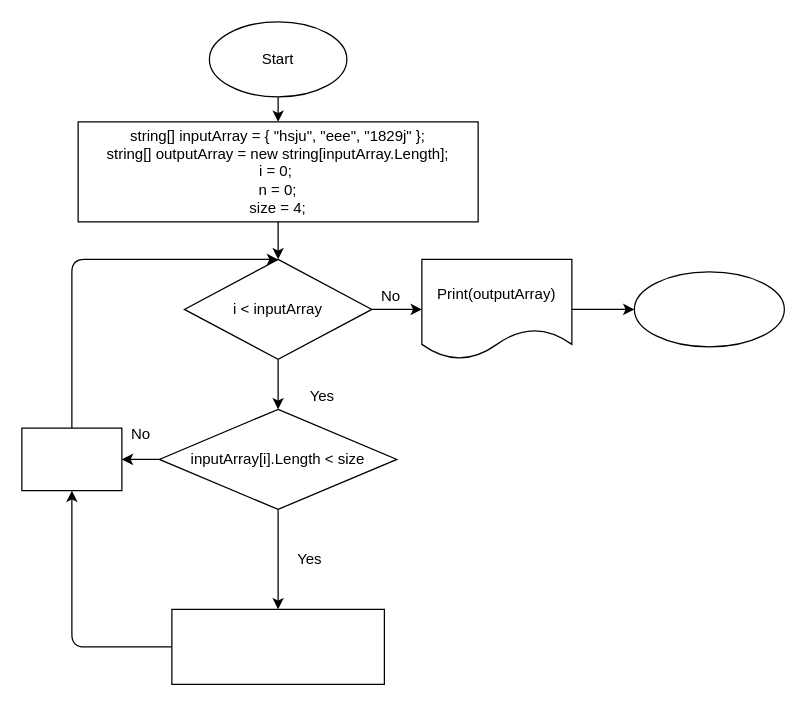
The diagram is 806 pixels wide and 706 high, and some of its shapes have lost their labels. Here are the shapes that lost their labels. From the top down, the box of each, then its label:
(633, 271, 784, 347): End
(21, 427, 122, 491): i++
(171, 608, 384, 684): outputArray[n] = inputArray[i] n++
